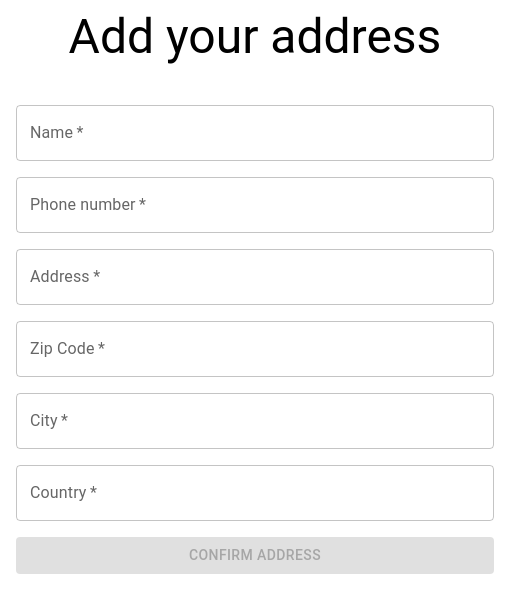
Test case: Address › Should return an error if phoneNumber input does not match the pattern
Type "john" into the field labelled "Name".
click(255, 133); type("john")  # box [16,105,494,161]
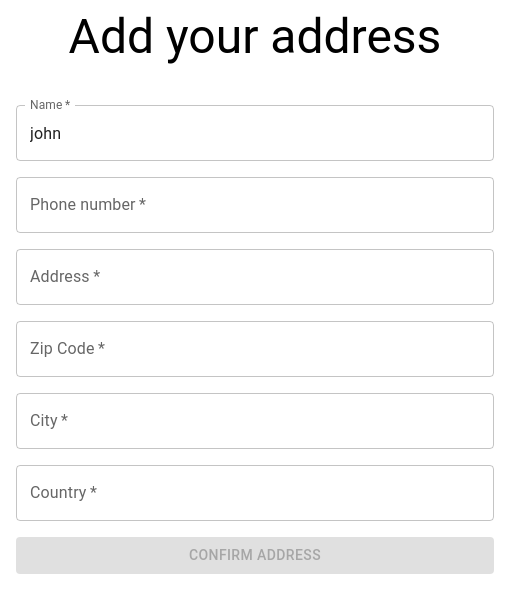
Type "125" into the field named "phoneNumber".
click(255, 205); type("125")  # box [16,177,494,233]
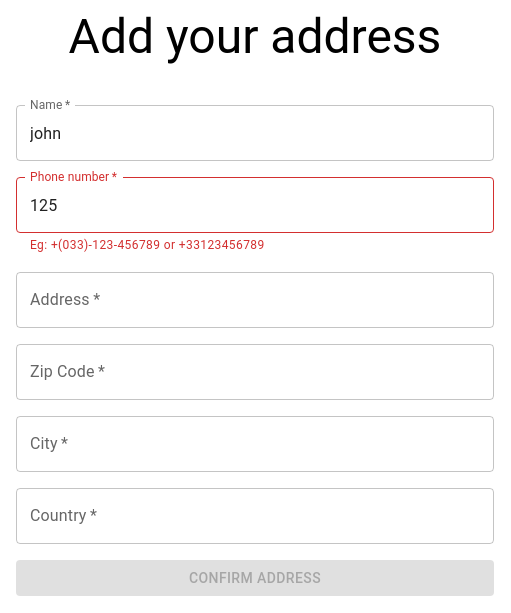
Result: the text "Eg: +(033)-123-456789 or +33123456789" is shown at [30,238,265,252]
